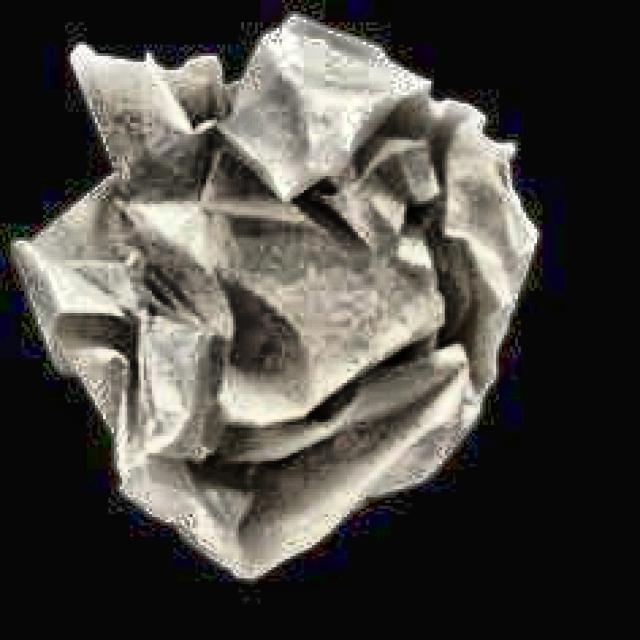Paper: (0, 0, 556, 593)
